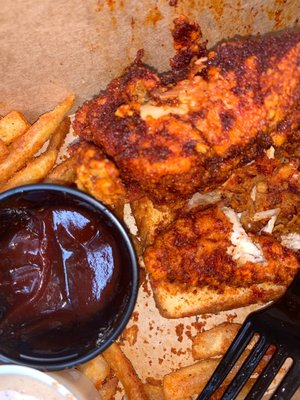sushi: (0, 183, 141, 370)
